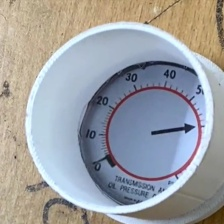gauge: (78, 61, 208, 205)
